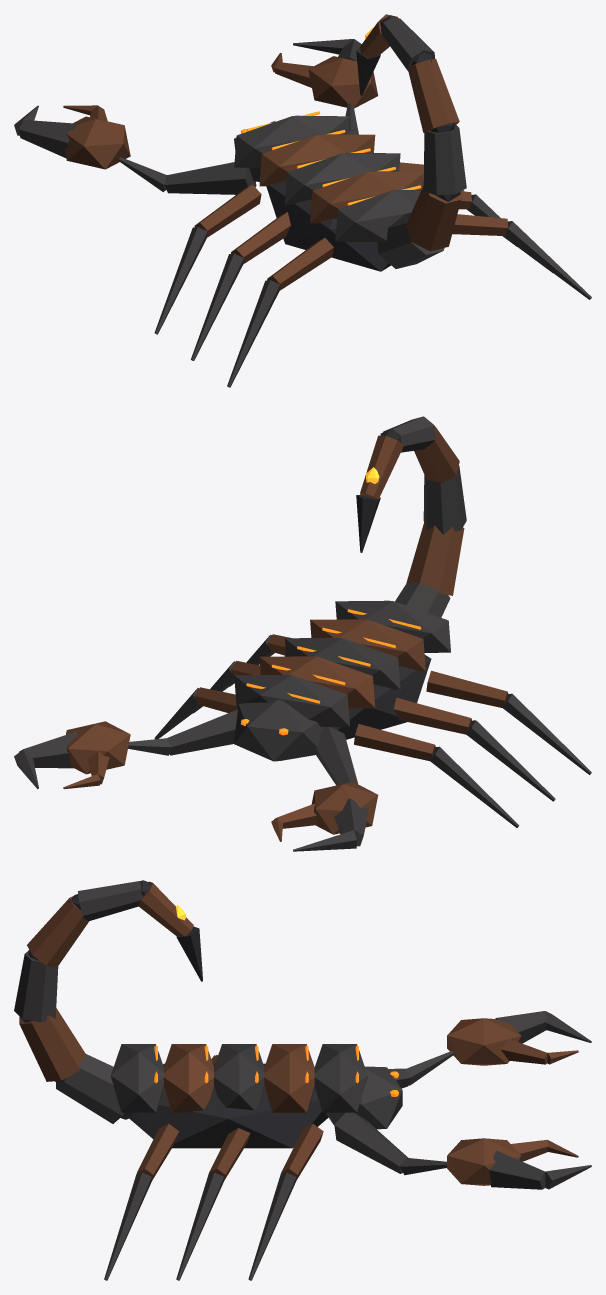
The model's file is slag_scorpion.glb.
3 renders of one model, top to bottom at view 1: azimuth 30°, elevation 25°; view 2: azimuth 150°, elevation 25°; view 3: azimuth 270°, elevation 25°, orthographic.
Parts seen in each view (by area): view 1: slag_scorpion_AnimatedMesh; view 2: slag_scorpion_AnimatedMesh; view 3: slag_scorpion_AnimatedMesh.
Boxes of the visible parts, x1,y1,x2,y2 form: slag_scorpion_AnimatedMesh: (14,14,591,387); slag_scorpion_AnimatedMesh: (14,416,591,851); slag_scorpion_AnimatedMesh: (14,880,591,1280).
Bounding box in the file's own units: 1.91 × 1.58 × 2.64.
